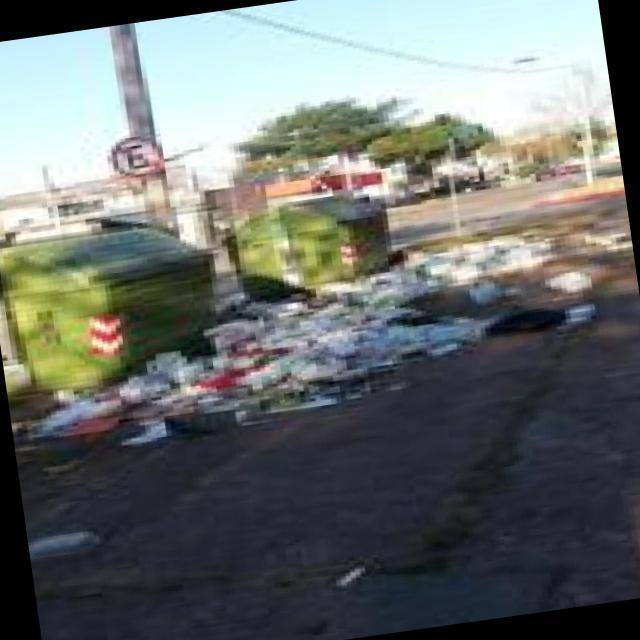garbage: (37, 342, 327, 445), (224, 267, 458, 383), (355, 218, 554, 296)
